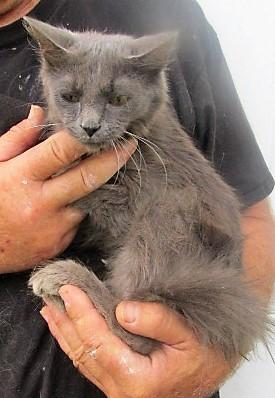rblue: (5, 1, 193, 181)
